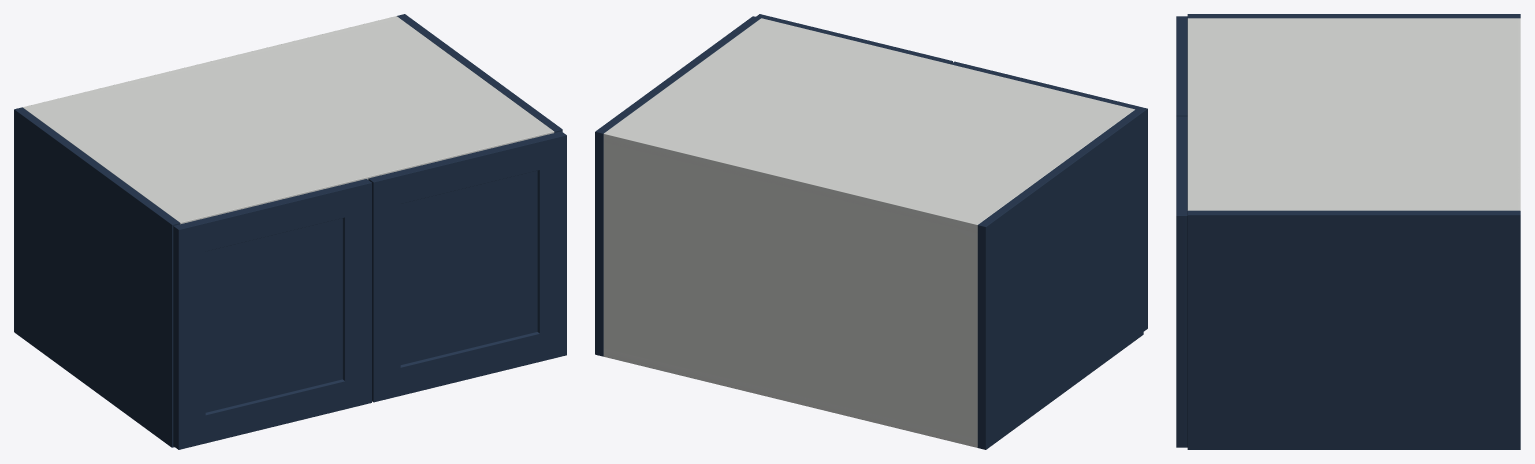
Rendered from oppein-pb-bss-w331824.glb.
3 renders of one model, left to right at view 1: azimuth 30°, elevation 25°; view 2: azimuth 150°, elevation 25°; view 3: azimuth 270°, elevation 25°, orthographic. The views are drawn at different scales.
Parts seen in each view (by area): view 1: Cabinet top, Door, Door.001, Cabinet side, Cabinet side.001, Cabinet back; view 2: Cabinet back, Cabinet top, Cabinet side, Cabinet side.001, Cabinet bottom, Door, Door.001; view 3: Cabinet side.001, Cabinet top, Door.001, Cabinet side, Cabinet back, Door.
Part boxes in pixels (x1,y1,x2,y2): Cabinet top: (23,18,554,224); Door: (173,179,371,449); Door.001: (368,131,566,402); Cabinet side: (14,107,180,447); Cabinet side.001: (397,14,562,132); Cabinet back: (23,16,399,109); Cabinet back: (603,132,979,447); Cabinet top: (603,18,1134,232); Cabinet side: (977,109,1143,449); Cabinet side.001: (595,16,760,356); Cabinet bottom: (603,348,977,447); Door: (951,61,1147,331); Door.001: (756,14,952,64); Cabinet side.001: (1187,210,1520,449); Cabinet top: (1187,18,1520,210); Door.001: (1176,116,1187,447); Cabinet side: (1187,14,1520,18); Cabinet back: (1514,18,1520,210); Door: (1176,16,1187,116).
Size of the model in its own units: 0.8382 by 0.4572 by 0.6064.
